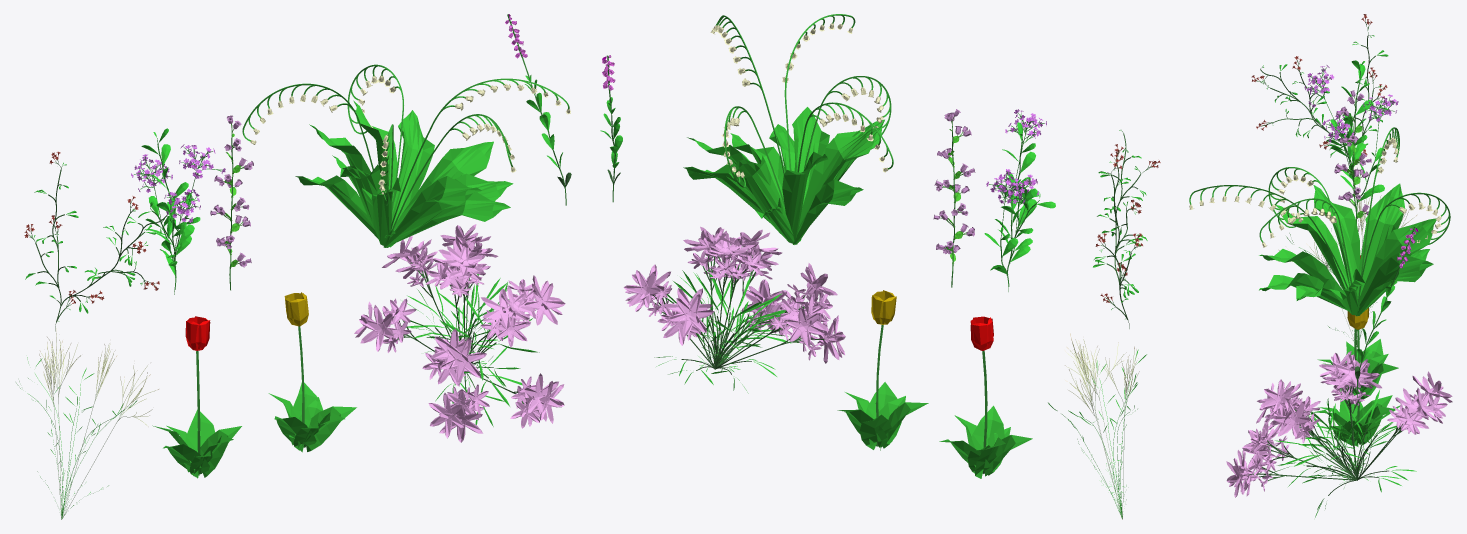
The model's file is Garden flowers_saved.obj.
3 views of the same model, side by side, from view 1: azimuth 30°, elevation 25°; view 2: azimuth 150°, elevation 25°; view 3: azimuth 270°, elevation 25° (orthographic). The views are drawn at different scales.
Parts seen in each view (by area): view 1: coreopsi, lily-of-, phlox, yellowt, redtuli, maideng, gilia, campanul, snapdrag; view 2: lily-of-, coreopsi, redtuli, yellowt, phlox, maideng, gilia, campanul, snapdrag; view 3: lily-of-, coreopsi, phlox, yellowt, gilia, campanul, redtuli, snapdrag, maideng.
Part boxes in pixels (x1,y1,x2,y2): coreopsi: [354, 224, 565, 442]; lily-of-: [242, 64, 570, 247]; phlox: [131, 128, 225, 294]; yellowt: [268, 292, 356, 452]; redtuli: [152, 316, 241, 478]; maideng: [16, 328, 158, 519]; gilia: [24, 151, 167, 331]; campanul: [210, 115, 253, 290]; snapdrag: [505, 14, 571, 205]; lily-of-: [683, 14, 893, 244]; coreopsi: [623, 226, 845, 393]; redtuli: [939, 316, 1032, 478]; yellowt: [837, 290, 928, 450]; phlox: [984, 109, 1055, 291]; maideng: [1048, 333, 1146, 519]; gilia: [1093, 130, 1160, 328]; campanul: [933, 109, 975, 287]; snapdrag: [600, 55, 622, 202]; lily-of-: [1189, 127, 1450, 316]; coreopsi: [1226, 351, 1452, 517]; phlox: [1304, 60, 1398, 212]; yellowt: [1314, 307, 1392, 446]; gilia: [1251, 14, 1388, 168]; campanul: [1334, 90, 1371, 223]; redtuli: [1317, 255, 1398, 399]; snapdrag: [1355, 227, 1418, 397]; maideng: [1278, 183, 1417, 347].
Bounding box in the file's own units: 431 × 280 × 201.
